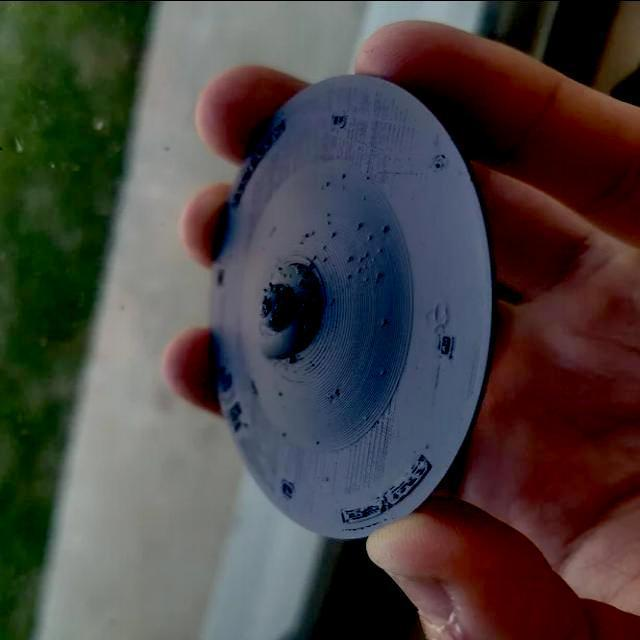blobs: (380, 222, 390, 238), (285, 354, 299, 365), (326, 229, 338, 241), (300, 268, 312, 280), (354, 219, 364, 233), (302, 228, 312, 242), (374, 268, 384, 280), (379, 366, 387, 381), (346, 251, 354, 265), (346, 268, 354, 282), (379, 316, 389, 327), (366, 232, 374, 242), (324, 218, 332, 228), (339, 171, 347, 181), (310, 252, 318, 262), (324, 179, 332, 188), (332, 389, 342, 396)
